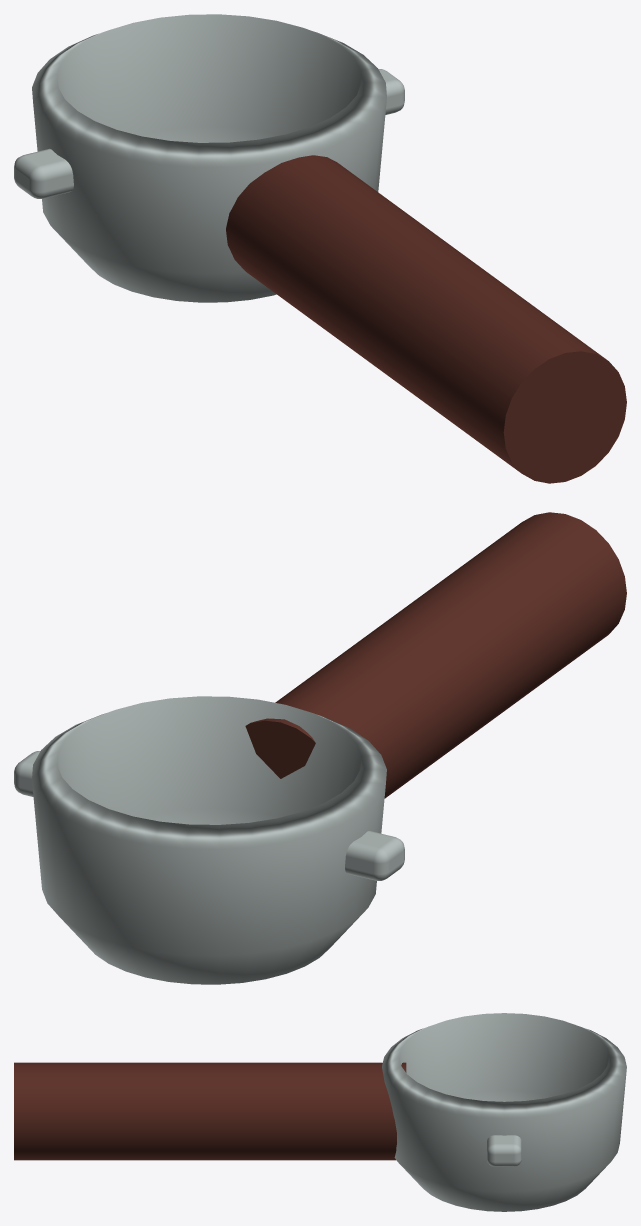
Rendered from portafilter.glb.
The picture shows the model from 3 angles, top to bottom: view 1: azimuth 30°, elevation 25°; view 2: azimuth 150°, elevation 25°; view 3: azimuth 270°, elevation 25°; orthographic projection. The views are drawn at different scales.
Visible parts, largest first — view 1: surface-#AFB9B7,0.9,0.25, surface-#5A2E25,0,0.7, surface-#AFB9B7,0.8,0.7; view 2: surface-#AFB9B7,0.9,0.25, surface-#5A2E25,0,0.7, surface-#AFB9B7,0.8,0.7; view 3: surface-#AFB9B7,0.9,0.25, surface-#5A2E25,0,0.7, surface-#AFB9B7,0.8,0.7.
Part boxes in pixels (bbox=[...]): surface-#AFB9B7,0.9,0.25: bbox=[32, 14, 386, 302]; surface-#5A2E25,0,0.7: bbox=[226, 155, 626, 483]; surface-#AFB9B7,0.8,0.7: bbox=[14, 69, 404, 198]; surface-#AFB9B7,0.9,0.25: bbox=[32, 696, 386, 984]; surface-#5A2E25,0,0.7: bbox=[245, 512, 626, 798]; surface-#AFB9B7,0.8,0.7: bbox=[14, 751, 404, 880]; surface-#AFB9B7,0.9,0.25: bbox=[382, 1013, 626, 1211]; surface-#5A2E25,0,0.7: bbox=[14, 1062, 406, 1160]; surface-#AFB9B7,0.8,0.7: bbox=[487, 1135, 521, 1166].
Bounding box in the file's own units: 0.085 × 0.037 × 0.175.
